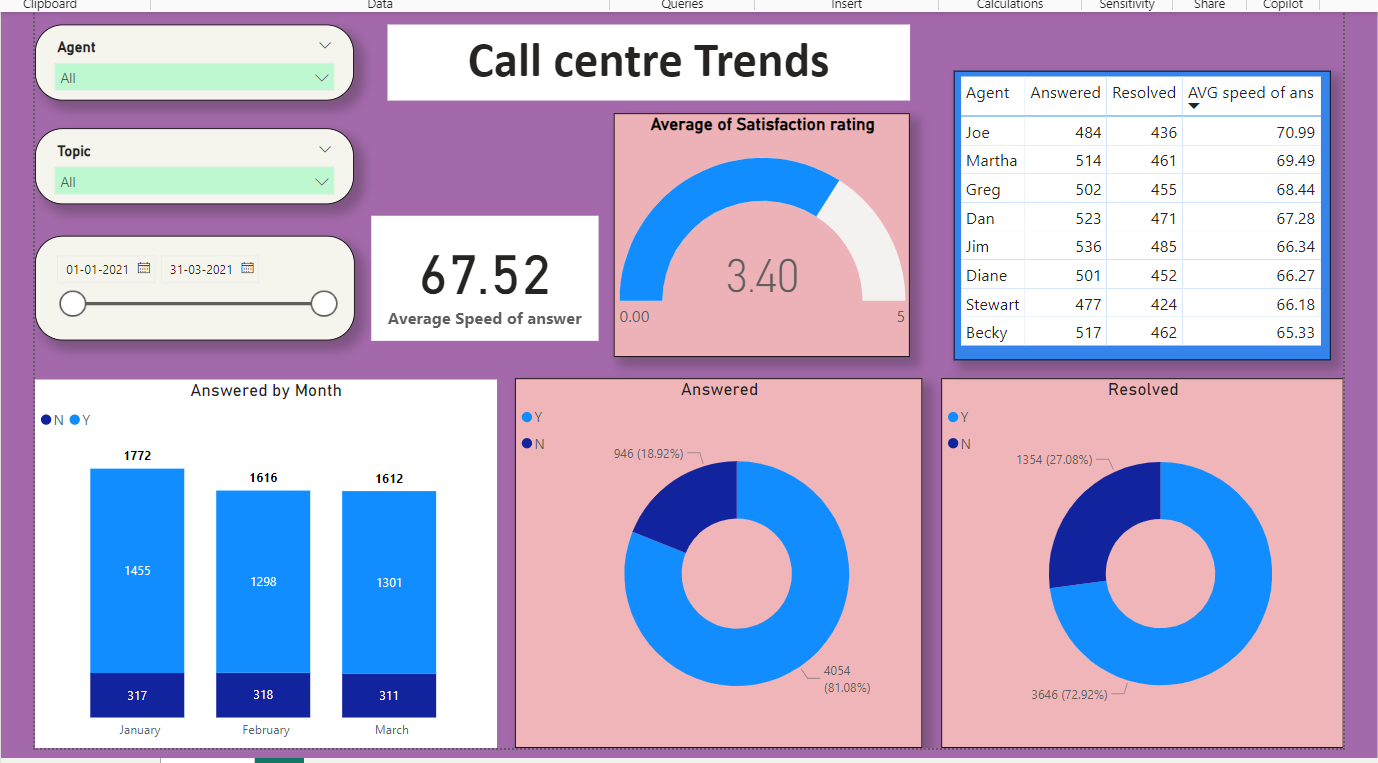

The dashboard page shown, as its layout file describes it:
{"tool":"powerbi","page":{"name":"Page 1","canvas":[1280,720],"ordinal":0},"visuals":[{"type":"slicer","fields":{"Values":["Sheet1.Agent"]},"box":[0,12.2,311.7,74.6],"z":0},{"type":"slicer","fields":{"Values":["Sheet1.Topic"]},"box":[0,113.7,311.7,74.6],"z":1},{"type":"slicer","fields":{"Values":["Sheet1.Date"]},"box":[0,218.8,312.9,102.7],"z":2},{"type":"gauge","title":"Average of Satisfaction rating","fields":{"MaxValue":["Max(Sheet1.Satisfaction rating)1"],"Y":["Avg(Sheet1.Satisfaction rating)"]},"box":[566,99,289.7,238.4],"z":3},{"type":"donutChart","title":"Answered","fields":{"Y":["CountNonNull(Sheet1.Answered (Y/N))"],"Category":["Sheet1.Answered (Y/N)"]},"box":[469.4,358.2,398.5,361.8],"z":4},{"type":"donutChart","title":"Resolved","fields":{"Category":["Sheet1.Resolved"],"Y":["CountNonNull(Sheet1.Resolved)"]},"box":[886.2,358.2,393.6,361.8],"z":5},{"type":"columnChart","title":"Answered by Month","fields":{"Category":["Sheet1.Date.Variation.Date Hierarchy.Month"],"Series":["Sheet1.Answered (Y/N)"],"Y":["CountNonNull(Sheet1.Answered (Y/N))"]},"box":[0,359.4,452.3,360.6],"z":6},{"type":"tableEx","fields":{"Values":["Sheet1.Agent","Sheet1.answeredy","Sheet1.resolvedy","Avg(Sheet1.Speed of answer in seconds)"]},"box":[898.5,57.5,369.2,283.6],"z":7},{"type":"card","fields":{"Values":["Avg(Sheet1.Speed of answer in seconds)"]},"box":[328.8,199.3,222.5,122.2],"z":8},{"type":"textbox","box":[344.7,12.2,511,74.6],"z":9}]}

Visuals, with their boxes in screenshot pixels (x1, y1, x2, y2):
slicer - Sheet1.Agent: {"x1": 32, "y1": 27, "x2": 347, "y2": 102}
slicer - Sheet1.Topic: {"x1": 32, "y1": 129, "x2": 347, "y2": 204}
slicer - Sheet1.Date: {"x1": 32, "y1": 235, "x2": 348, "y2": 339}
"Average of Satisfaction rating" gauge: {"x1": 604, "y1": 114, "x2": 896, "y2": 355}
"Answered" donutChart: {"x1": 506, "y1": 376, "x2": 909, "y2": 741}
"Resolved" donutChart: {"x1": 927, "y1": 376, "x2": 1325, "y2": 741}
"Answered by Month" columnChart: {"x1": 32, "y1": 377, "x2": 489, "y2": 741}
tableEx - Sheet1.Agent x Sheet1.answeredy: {"x1": 940, "y1": 72, "x2": 1312, "y2": 359}
card - Avg(Sheet1.Speed of answer in seconds): {"x1": 364, "y1": 216, "x2": 589, "y2": 339}
textbox: {"x1": 380, "y1": 27, "x2": 896, "y2": 102}
